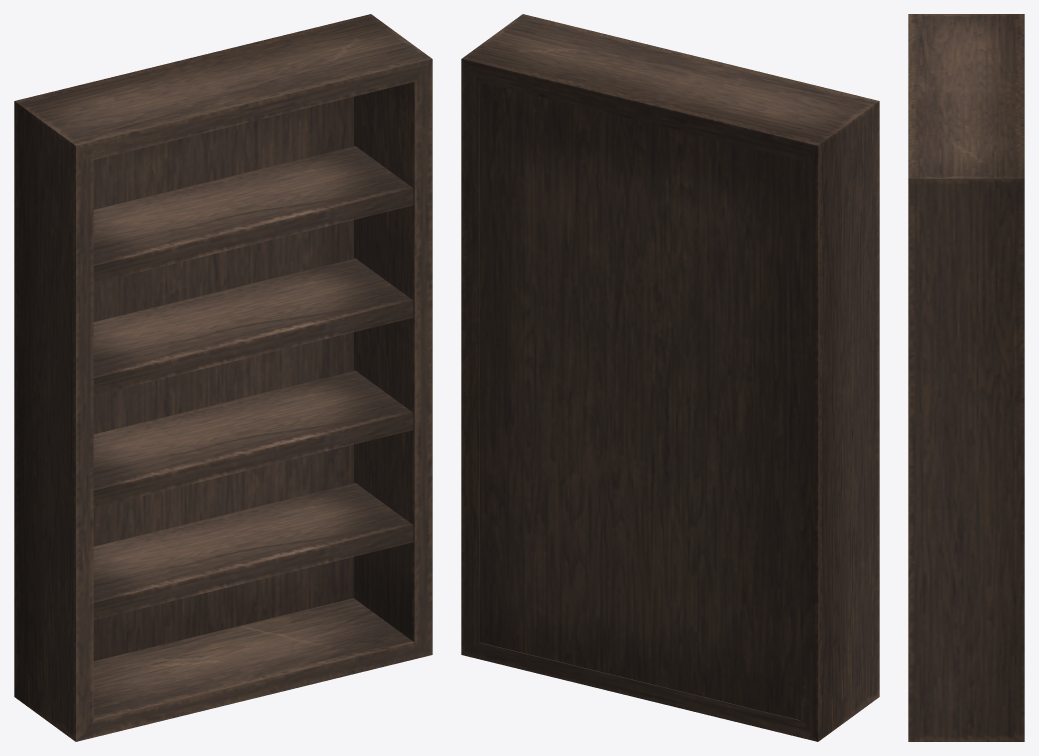
File: Bookshelf_1.fbx
3 views of the same model, side by side, from view 1: azimuth 30°, elevation 25°; view 2: azimuth 150°, elevation 25°; view 3: azimuth 270°, elevation 25° (orthographic). The views are drawn at different scales.
Visible parts, largest first — view 1: Bookshelf_1; view 2: Bookshelf_1; view 3: Bookshelf_1.
Boxes of the visible parts, x1,y1,x2,y2 form: Bookshelf_1: [14, 14, 432, 741]; Bookshelf_1: [461, 14, 879, 741]; Bookshelf_1: [908, 14, 1024, 741].
Size of the model in its own units: 106 by 169 by 31.63.
